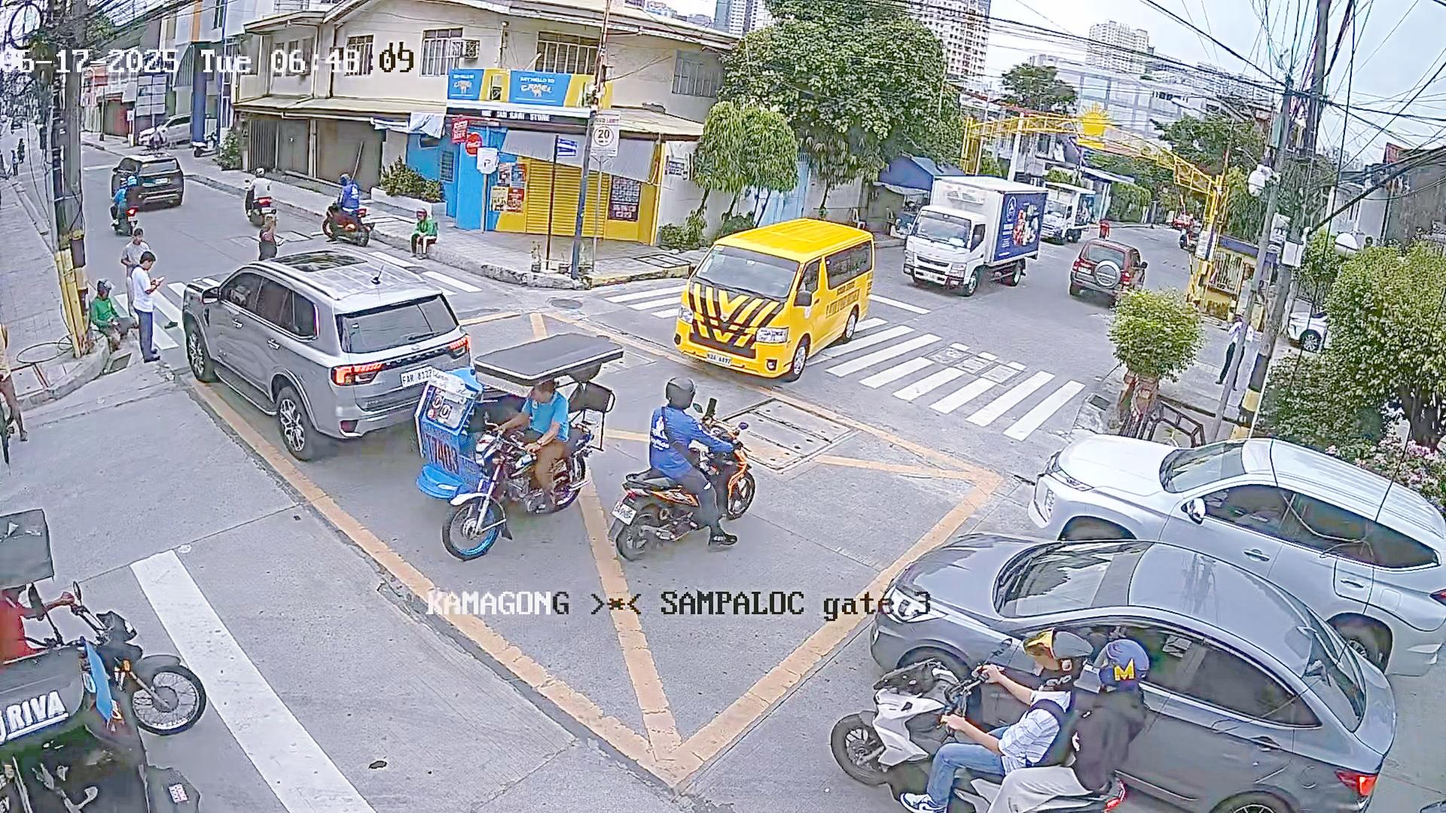Car: (877, 492, 1401, 801), (972, 364, 1435, 687), (164, 258, 501, 462), (656, 175, 922, 356), (904, 162, 1051, 295), (1058, 229, 1160, 312), (114, 140, 191, 217)
Motor: (819, 648, 1180, 813), (625, 383, 794, 586), (302, 175, 390, 256), (212, 157, 285, 223)
